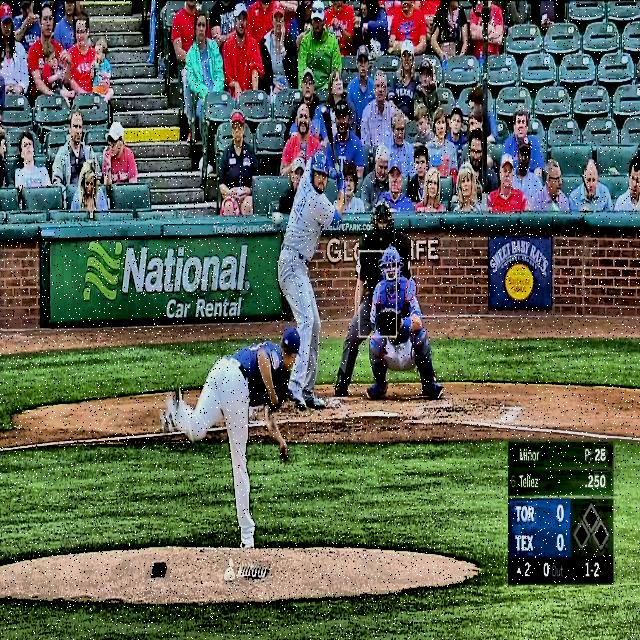baseball: (272, 211, 283, 227)
